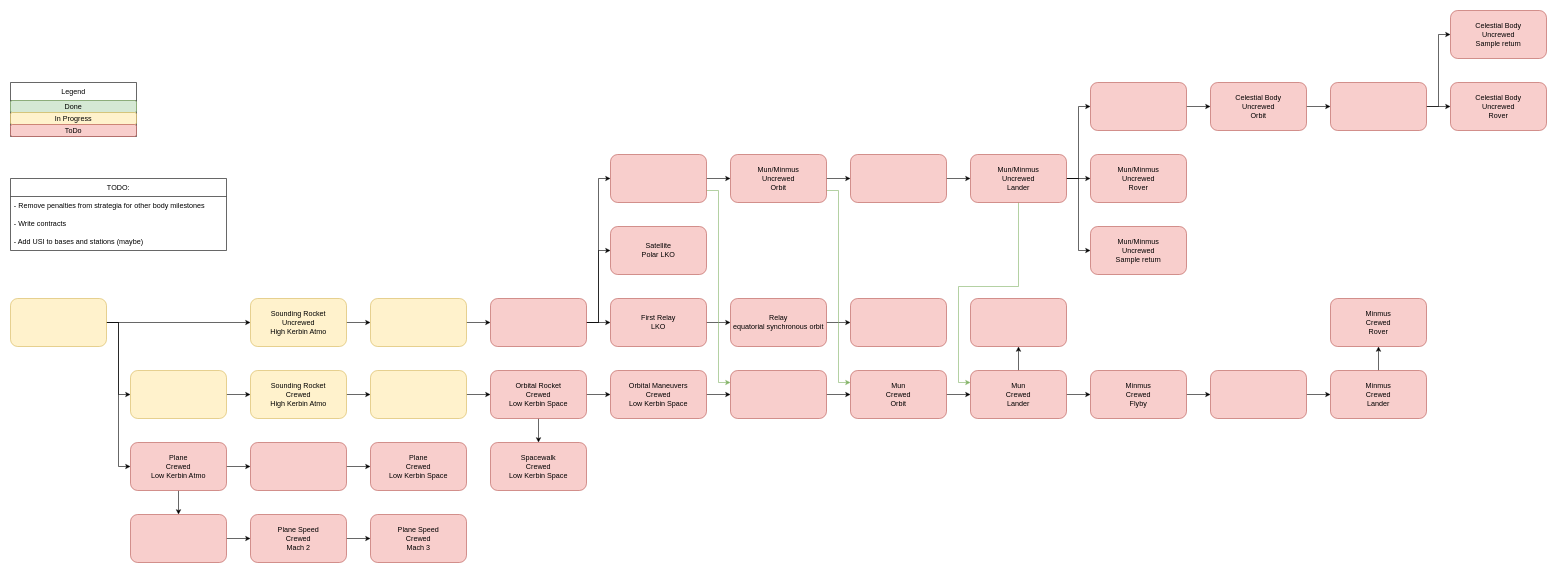
Image size: 1557x573. Some labels were removed from this diagram. Here are the shapes that lost their labels. From the top down, the centre of each, then its label:
point (1138, 106): Celestial Body Uncrewed Flyby
point (1378, 106): Celestial Body Uncrewed Landing
point (658, 178): Mun/Minmus Uncrewed Flyby
point (898, 178): Mun/Minmus Uncrewed Impactor
point (58, 322): Sounding Rocket Uncrewed Low Kerbin Atmo
point (418, 322): Sounding Rocket Uncrewed Low Kerbin Space
point (538, 322): Satellite LKO
point (898, 322): Satellite Molnia orbit
point (1018, 322): Mun Crewed Rover
point (178, 394): Sounding Rocket Crewed Low Kerbin Atmo
point (418, 394): Sounding Rocket Crewed Low Kerbin Space
point (778, 394): Mun Crewed Flyby
point (1258, 394): Minmus Crewed Orbit
point (298, 466): Plane Crewed High Kerbin Atmo
point (178, 538): Plane Speed Crewed Mach 1
